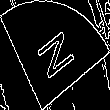N_SW: (31, 24, 79, 86)
